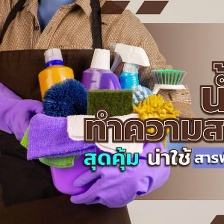cleaning_solution: (74, 46, 129, 161), (102, 40, 150, 161), (34, 43, 82, 162)
